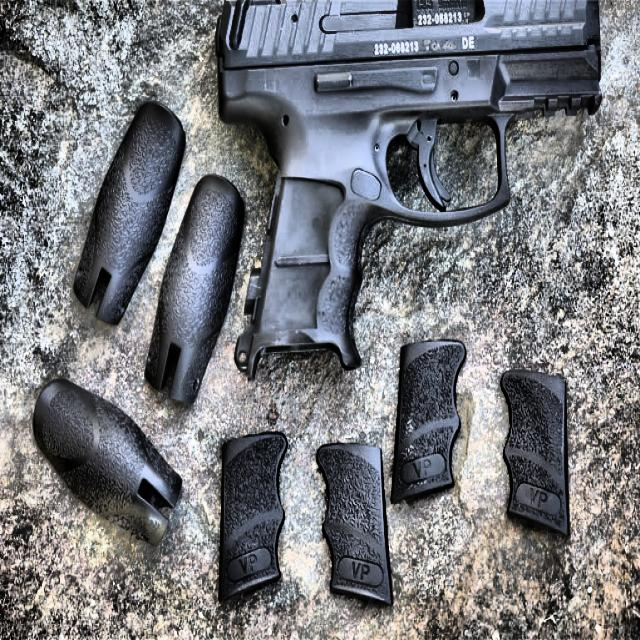HKVP9: (215, 0, 604, 379)
